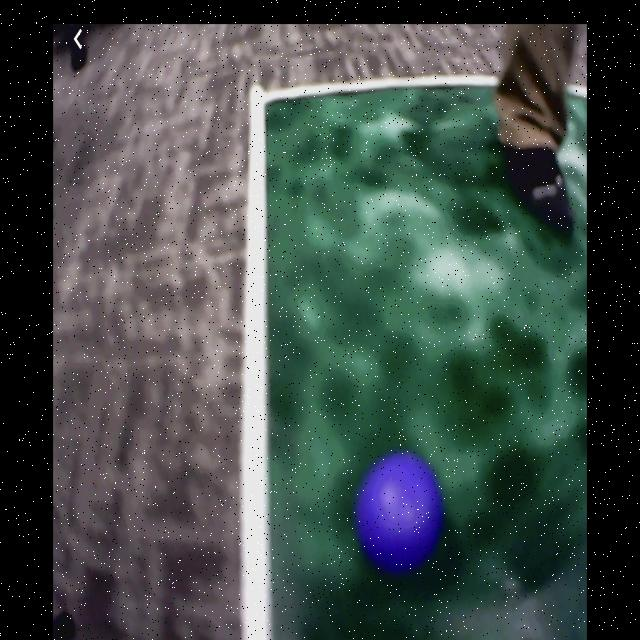ball: (360, 453, 440, 565)
